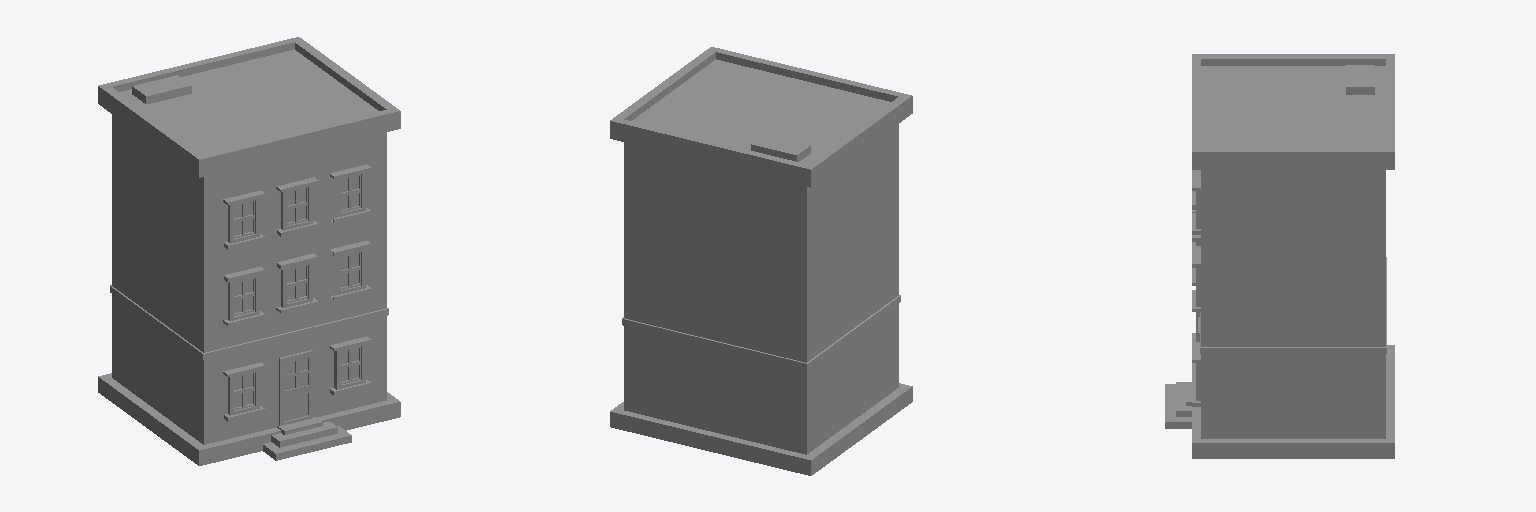
File: Flat.obj
The picture shows the model from 3 angles: view 1: azimuth 30°, elevation 25°; view 2: azimuth 150°, elevation 25°; view 3: azimuth 270°, elevation 25°; orthographic projection.
Visible parts, largest first — view 1: Flat1_Cube; view 2: Flat1_Cube; view 3: Flat1_Cube.
Boxes of the visible parts, <box> form: Flat1_Cube: <box>98,37,400,465</box>; Flat1_Cube: <box>610,47,912,475</box>; Flat1_Cube: <box>1165,54,1394,458</box>.
Bounding box in the file's own units: 2.17 × 3.17 × 2.14.